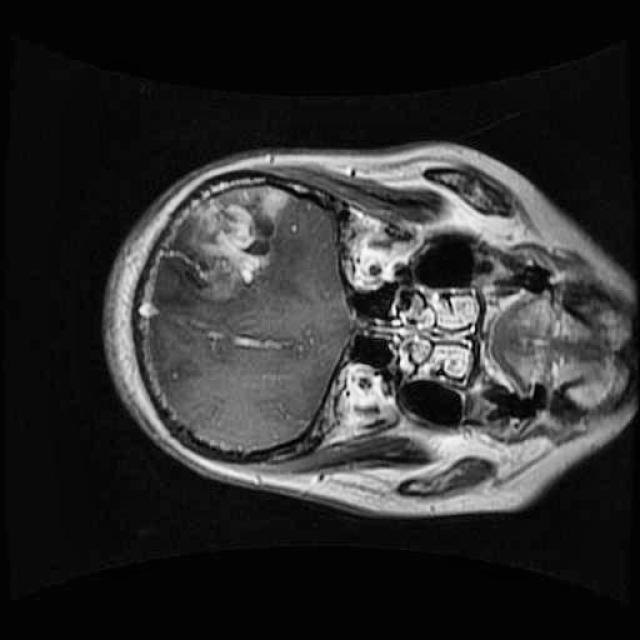Non-Tumor: (152, 164, 309, 308)
